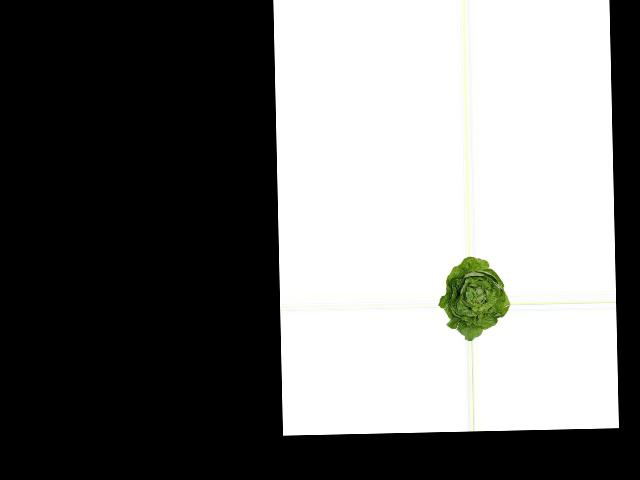lettuce: (437, 255, 509, 339)
